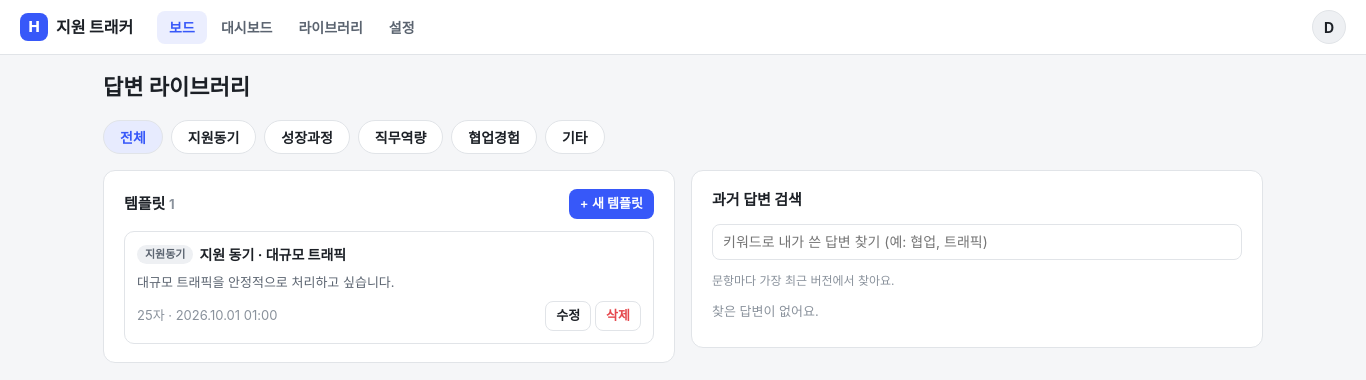
Test: 답변 라이브러리 › 템플릿을 글자 수와 함께 보여주고, 유형 탭을 누르면 그 유형만 불러온다
Check: the text "지원 동기 · 대규모 트래픽" is shown, box [200,244,346,265]
Check: the text "25자 · 2026.10.01 01:00" is shown, box [137,306,277,325]
What coordinates should you click on to do the following:
click the tab "협업경험"
I would click on:
 (494, 137)
Its box is [451,120,537,154].
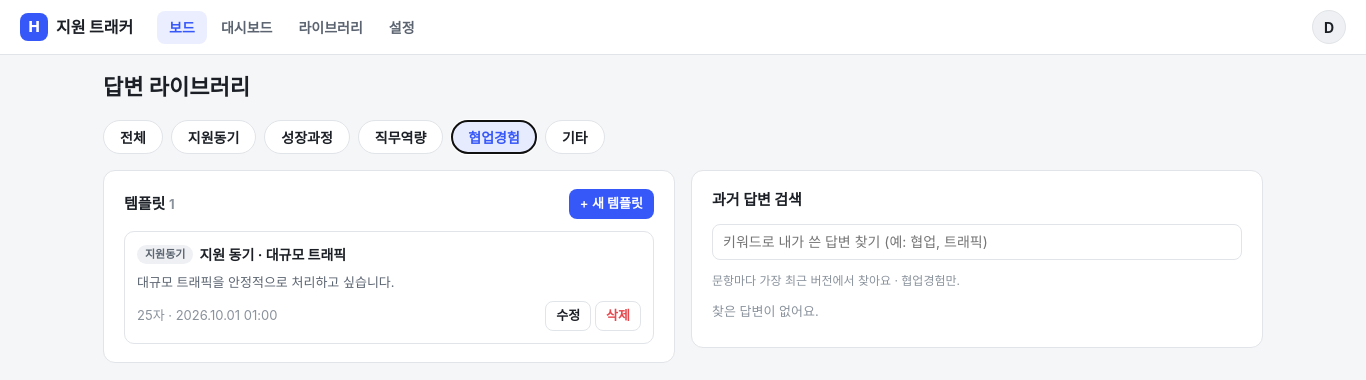
Check: the text "문항마다 가장 최근 버전에서 찾아요 · 협업경험만." is shown, box [712,272,960,288]
